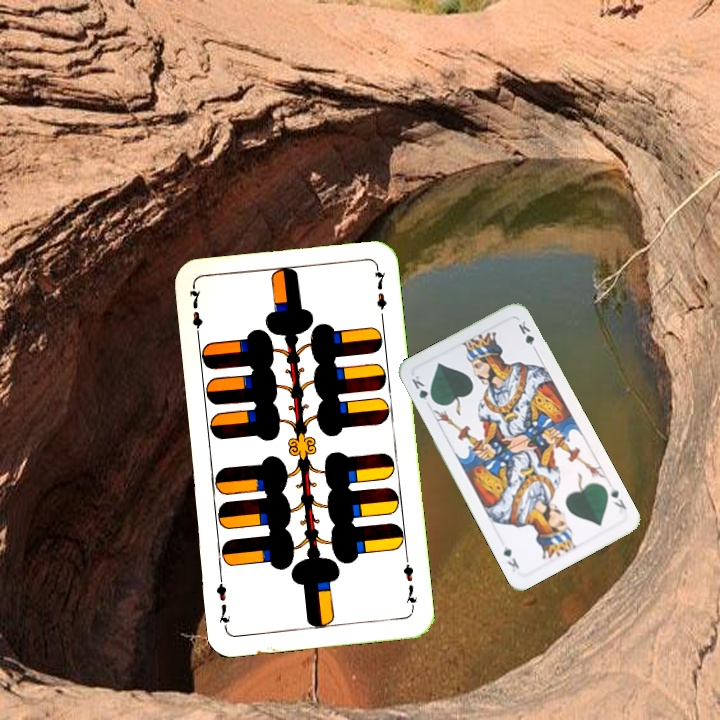E7: (399, 553, 420, 612), (185, 284, 205, 343)
GK: (407, 371, 437, 406), (606, 483, 629, 512)
